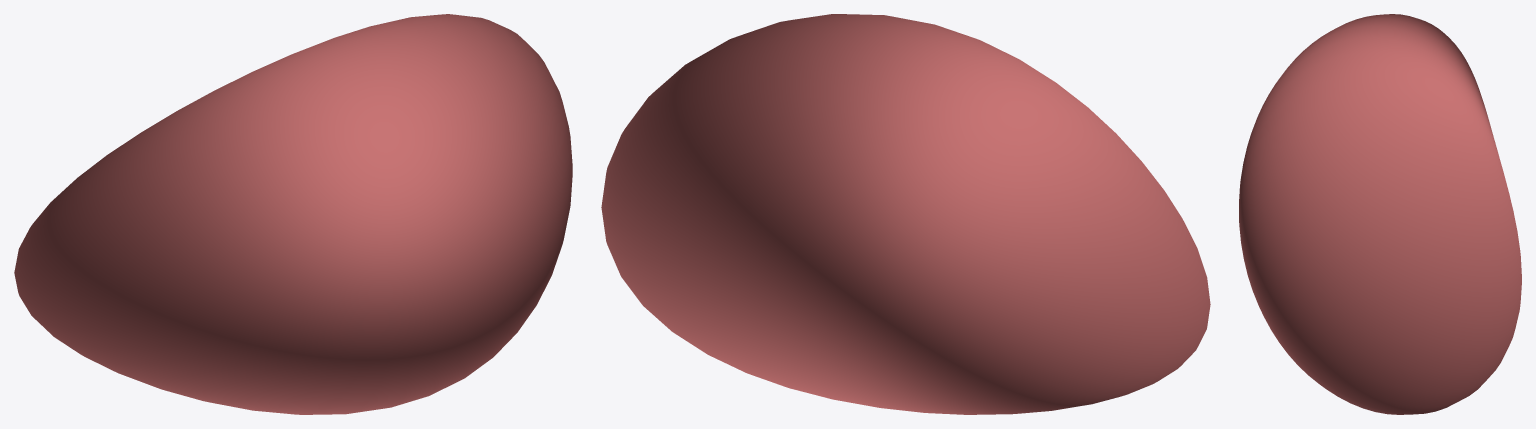
Rendered from liver_healthy.glb.
3 renders of one model, left to right at view 1: azimuth 30°, elevation 25°; view 2: azimuth 150°, elevation 25°; view 3: azimuth 270°, elevation 25°, orthographic. The views are drawn at different scales.
Size of the model in its own units: 4 by 2.46 by 1.94.
